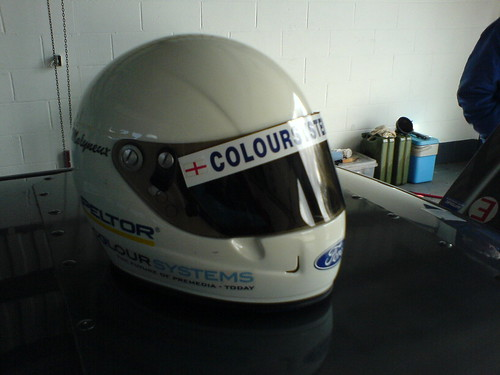helmet: (77, 38, 352, 311)
